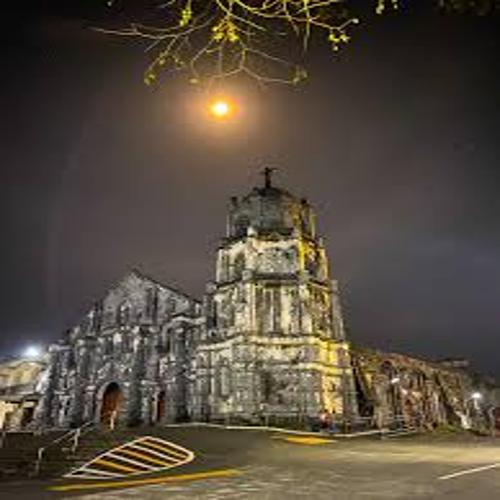Daraga Church: (42, 160, 362, 443)
